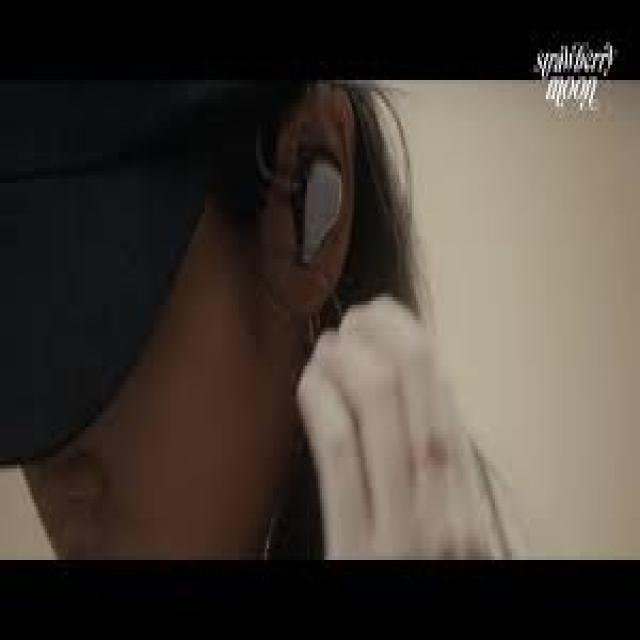earphone: (292, 136, 360, 279)
